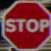Stop: (3, 6, 47, 40)
